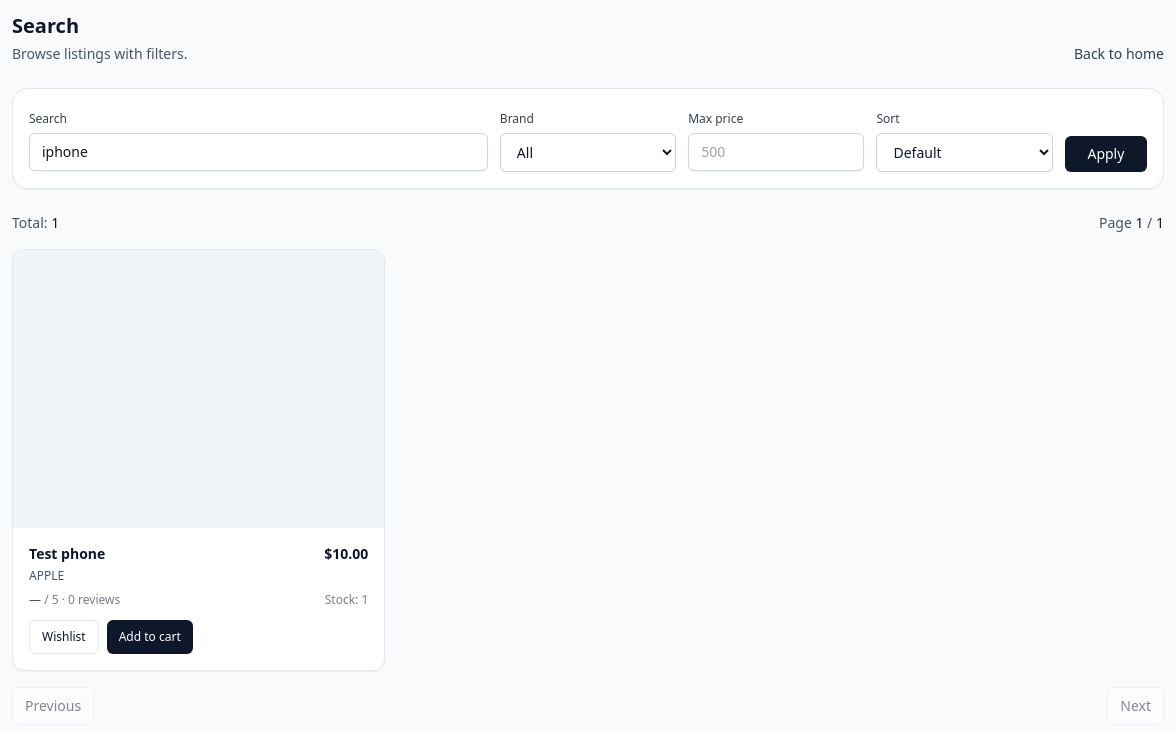
Test: SearchPage › redirects unauthenticated users to /login when clicking Wishlist
Check: the link "Test phone" is shown, box [29,544,105,564]
Click the button "Wishlist".
click(64, 638)  # box [29,620,99,654]
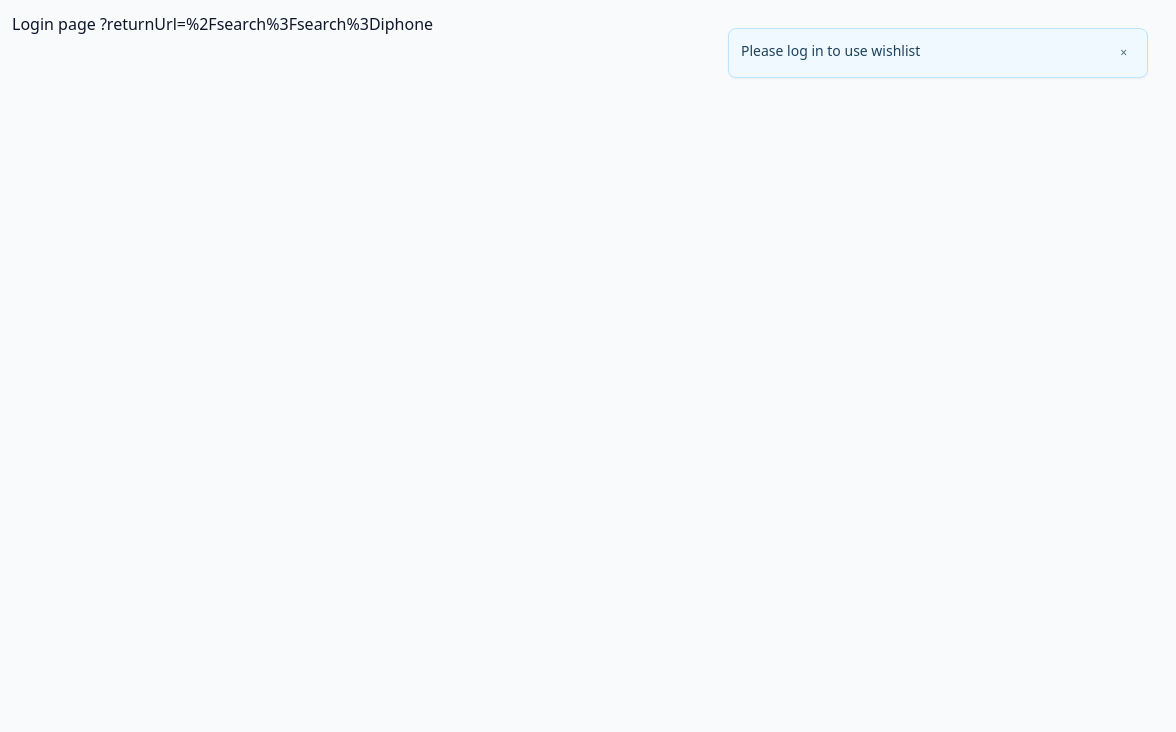
Check: the text "Please log in to use wishlist" is shown, box [741,41,920,60]
Check: the text "Login page ?returnUrl=%2Fsearch%3Fsearch%3Diphone" is shown, box [12,13,433,35]
Check: the text with test id "search" shows "returnUrl=%2Fsearch%3Fsearch%3Diphone", box [100,13,433,35]
